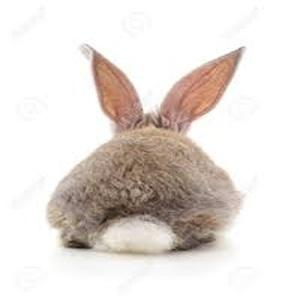rabbit: (47, 49, 245, 256)
